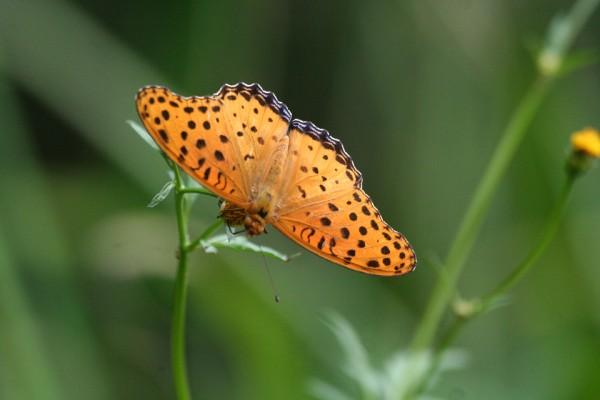Argyreus hyperbius: (130, 74, 419, 305)
butterfly: (132, 76, 421, 307)
